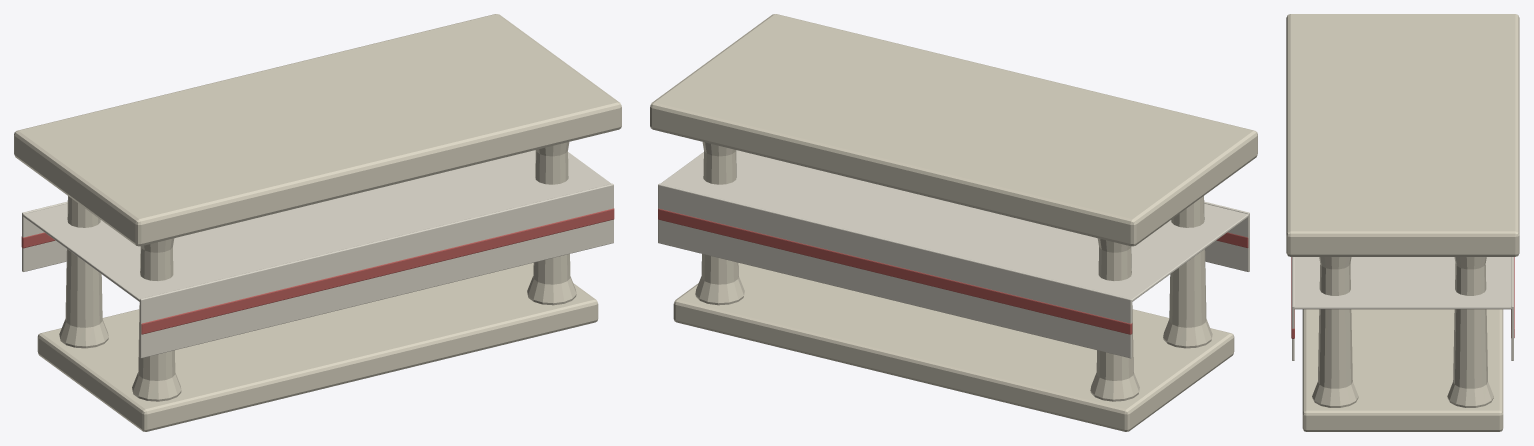
File: monastery_altar_table.glb
The picture shows the model from 3 angles, left to right: view 1: azimuth 30°, elevation 25°; view 2: azimuth 150°, elevation 25°; view 3: azimuth 270°, elevation 25°; orthographic projection. The views are drawn at different scales.
Visible parts, largest first — view 1: world; view 2: world; view 3: world.
Boxes of the visible parts, x1=… form: world: x1=14, y1=14, x2=621, y2=431; world: x1=650, y1=14, x2=1257, y2=431; world: x1=1286, y1=14, x2=1519, y2=431.
Bounding box in the file's own units: 2 × 0.8751 × 0.8929.
